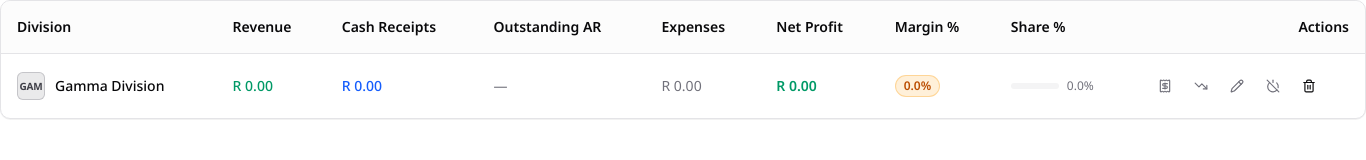
Test case: DivisionsTable › pressing Escape reverts the row to display state without saving - Validates: Requirements 3.6
Click the 1st button named "rename".
click(1237, 86)  # box [1221, 70, 1253, 102]
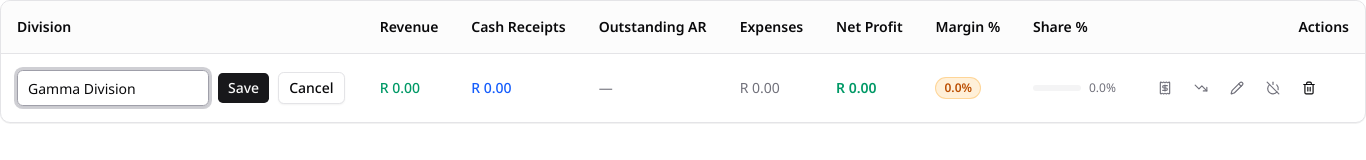
Expected: the field is shown, [17, 70, 209, 106]
Press Escape
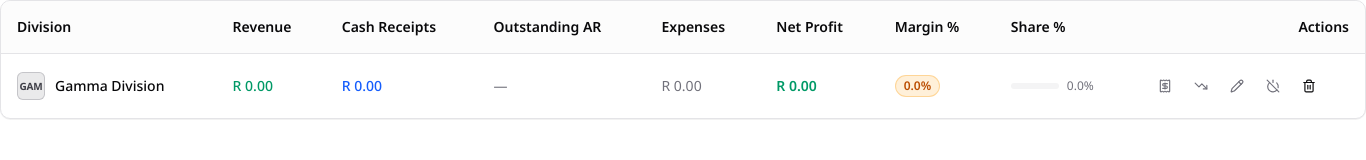
Expected: the field is gone
Expected: the text "Gamma Division" is shown, [55, 76, 164, 96]
